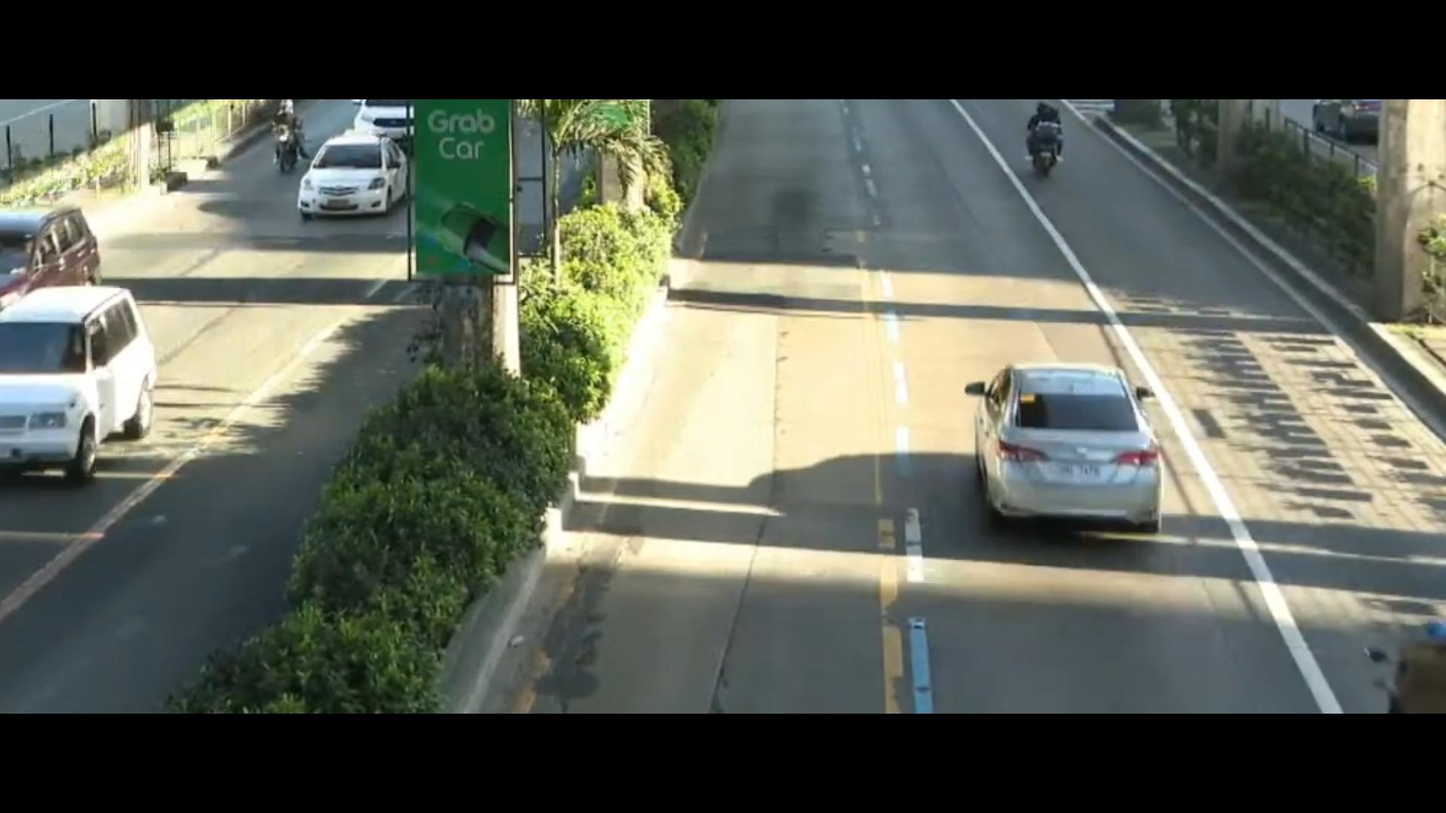Motorcycle: (994, 104, 1092, 197), (259, 96, 308, 188)
SUV: (0, 266, 174, 482), (0, 187, 115, 313), (348, 100, 437, 155)
Sedan: (944, 341, 1191, 554), (285, 130, 408, 223)
